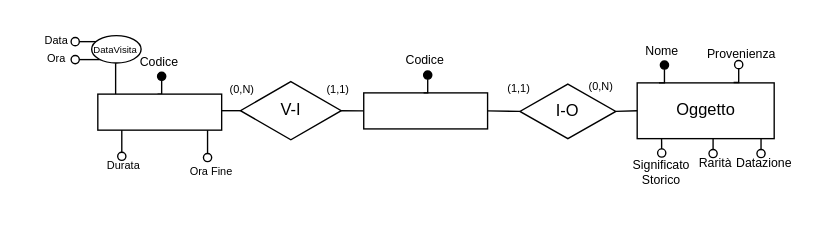
Image size: 817x226. Some labels were removed from this diagram. The centre of each missing label's shape, as x and y in pixels:
"Interazione" goes at pixel 425 110.
"Visita" goes at pixel 159 111.
